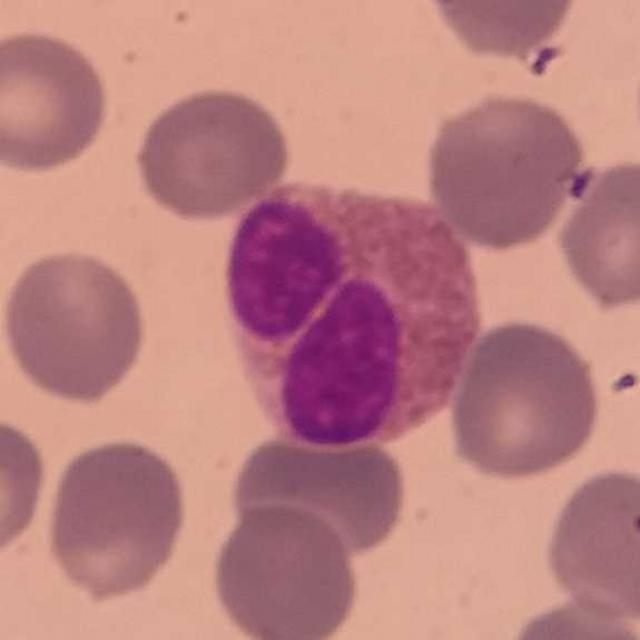Eosinophil: (217, 182, 486, 456)
RBC: (421, 86, 592, 252), (444, 315, 607, 483), (225, 421, 414, 562), (41, 433, 193, 603), (0, 243, 152, 407), (130, 82, 296, 222), (208, 498, 364, 640), (0, 24, 116, 176), (540, 462, 640, 624), (552, 154, 640, 312), (417, 0, 586, 61), (0, 411, 52, 567), (496, 592, 640, 640)
